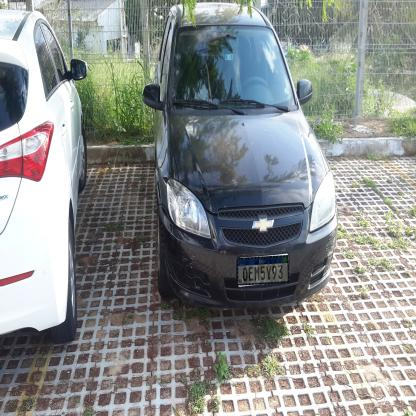PlacaM: (237, 255, 289, 286)
